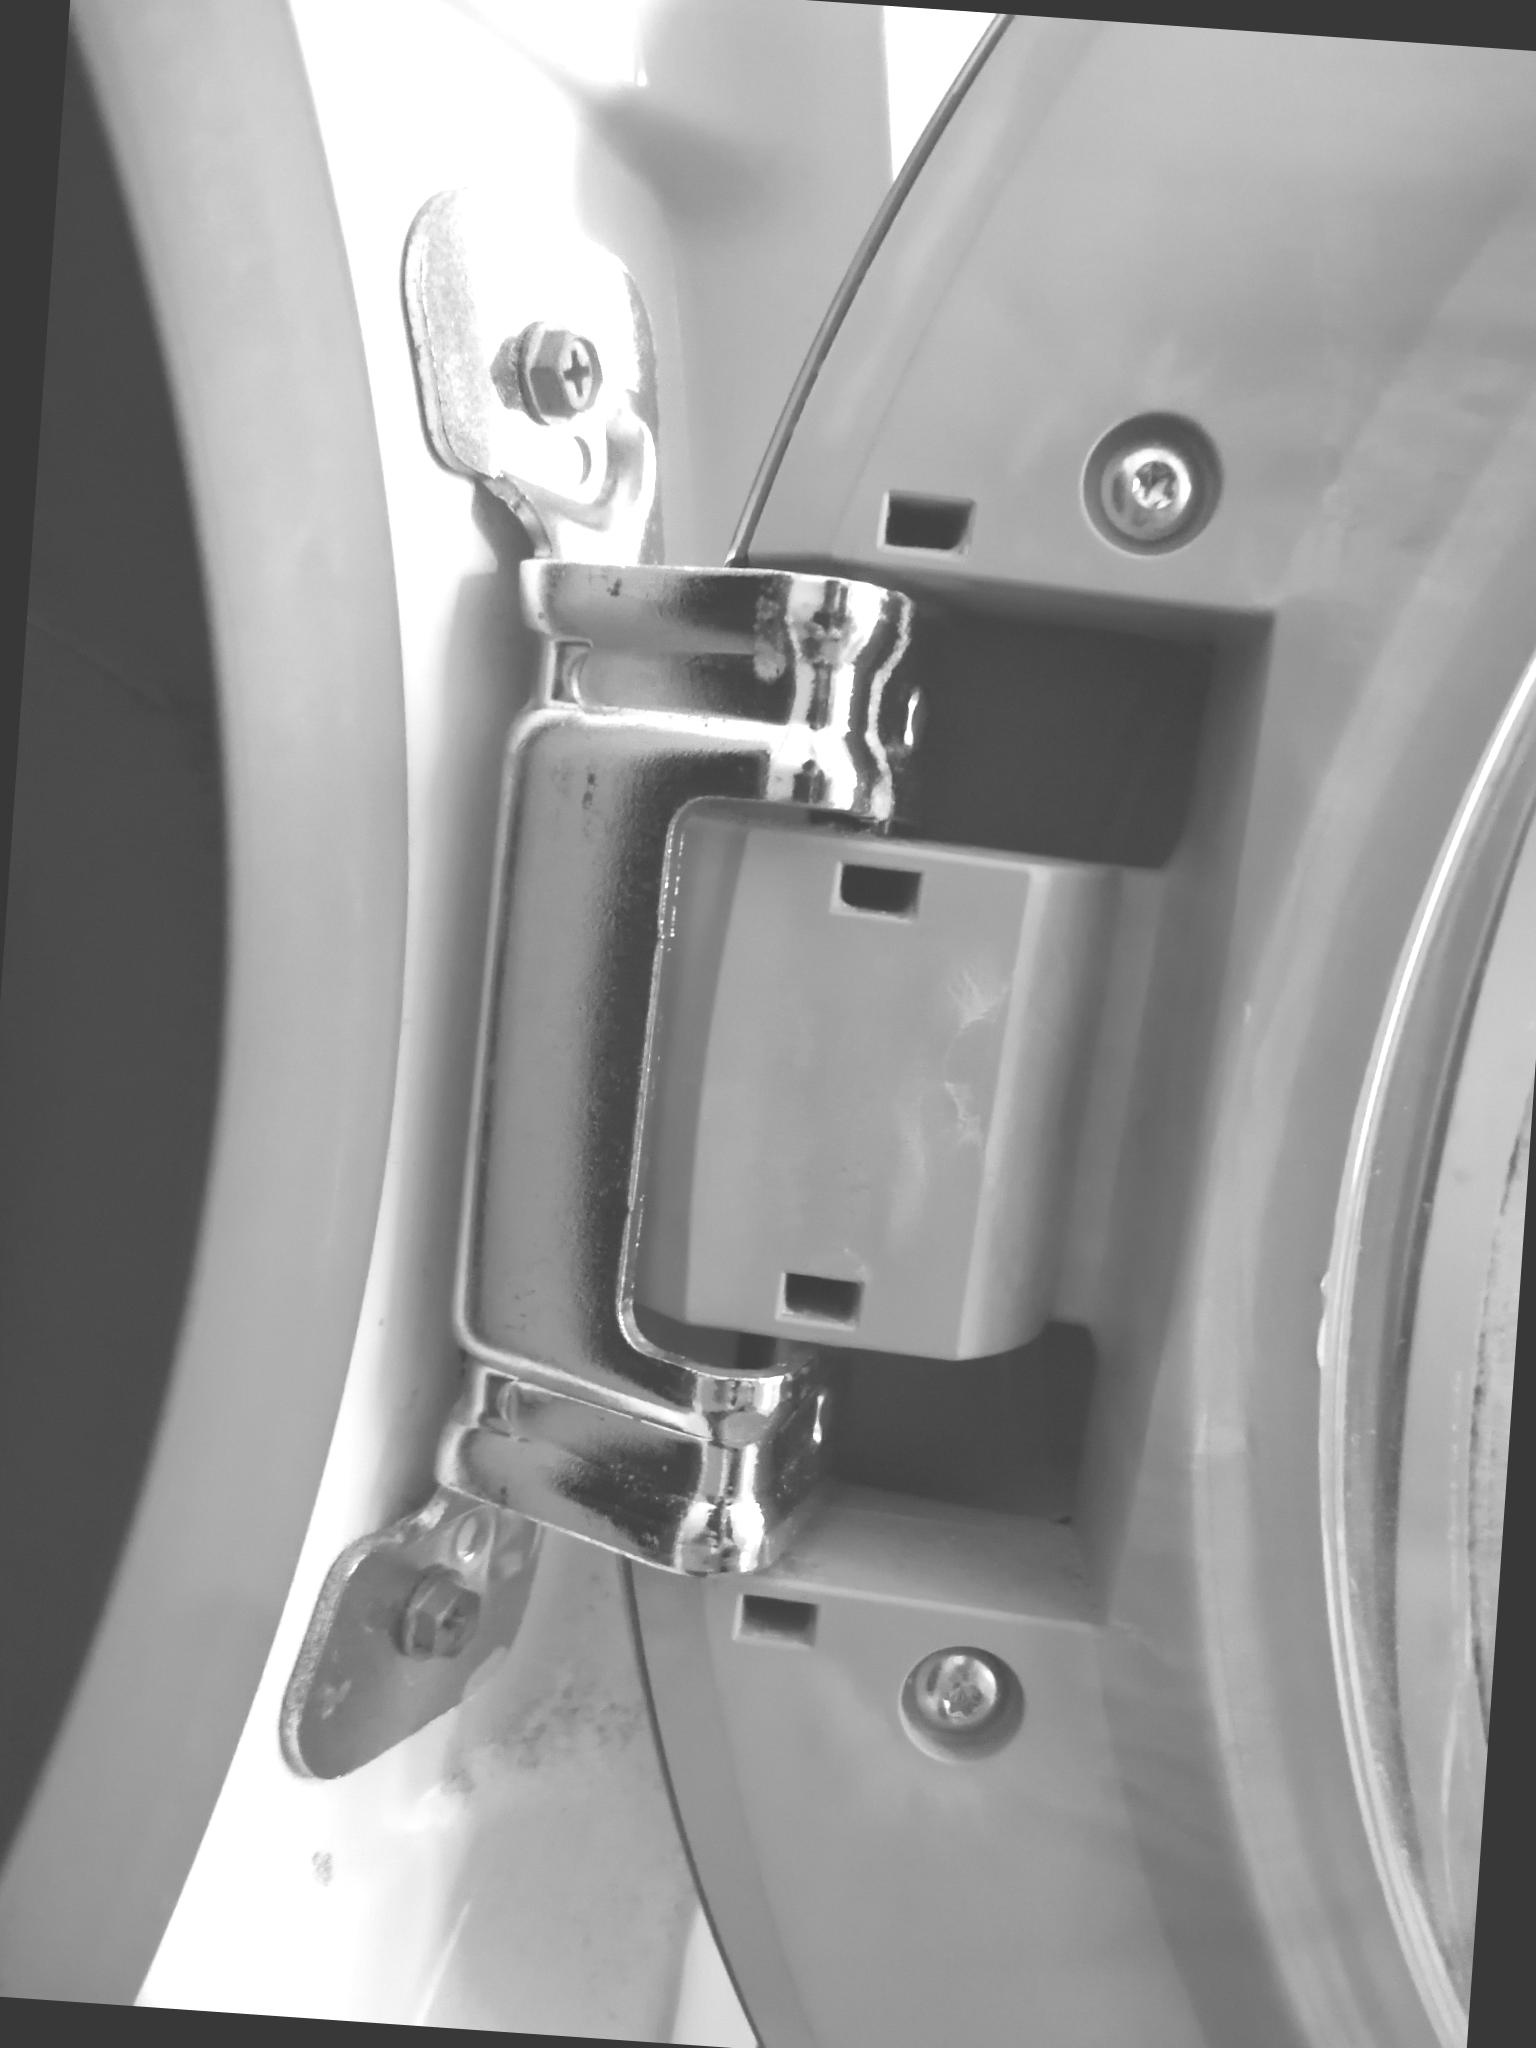torx: (1081, 426, 1220, 556), (902, 1643, 1015, 1745)
